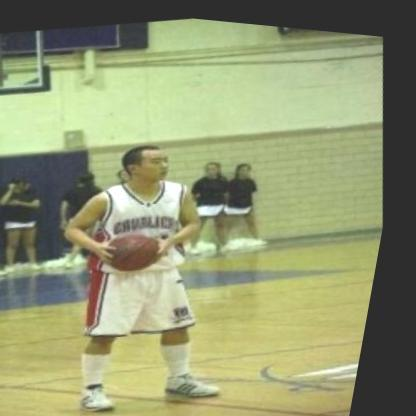basketball: (105, 217, 182, 281)
